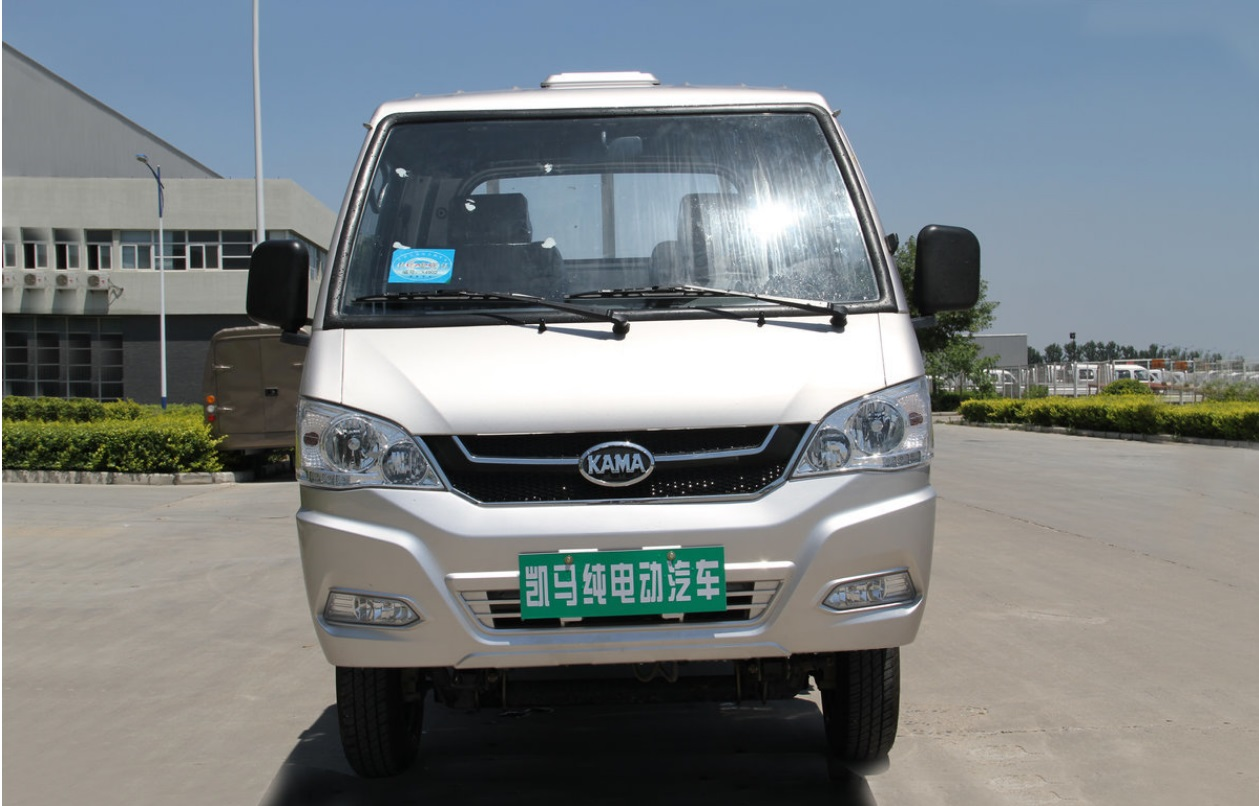truck: (246, 66, 984, 767)
